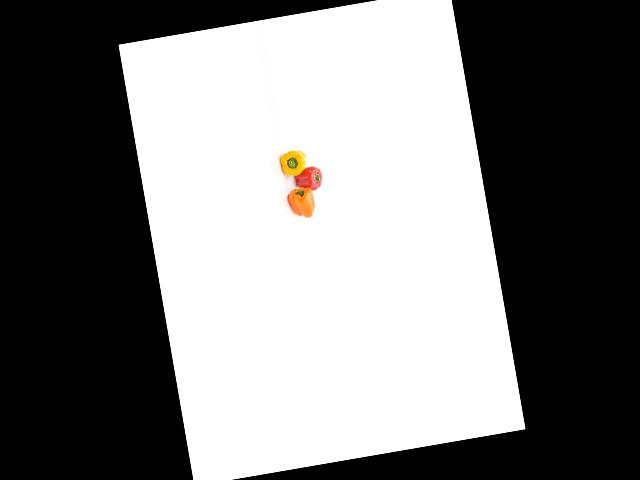bell_pepper: (277, 146, 310, 181)
